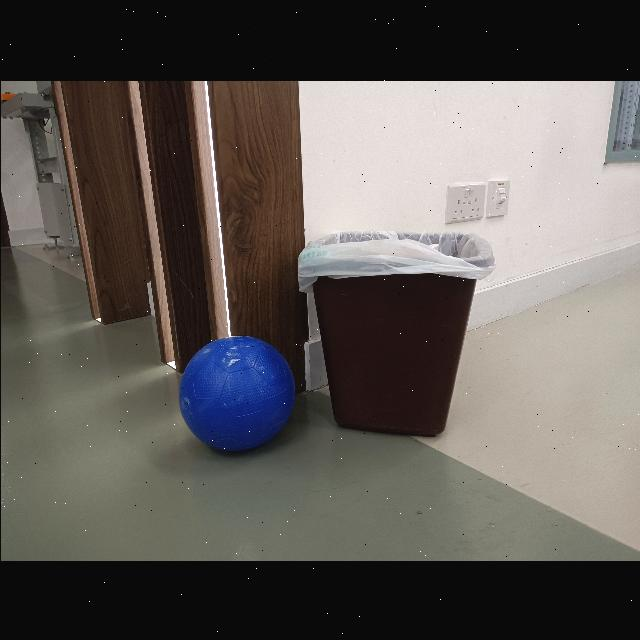B: (178, 334, 294, 452)
